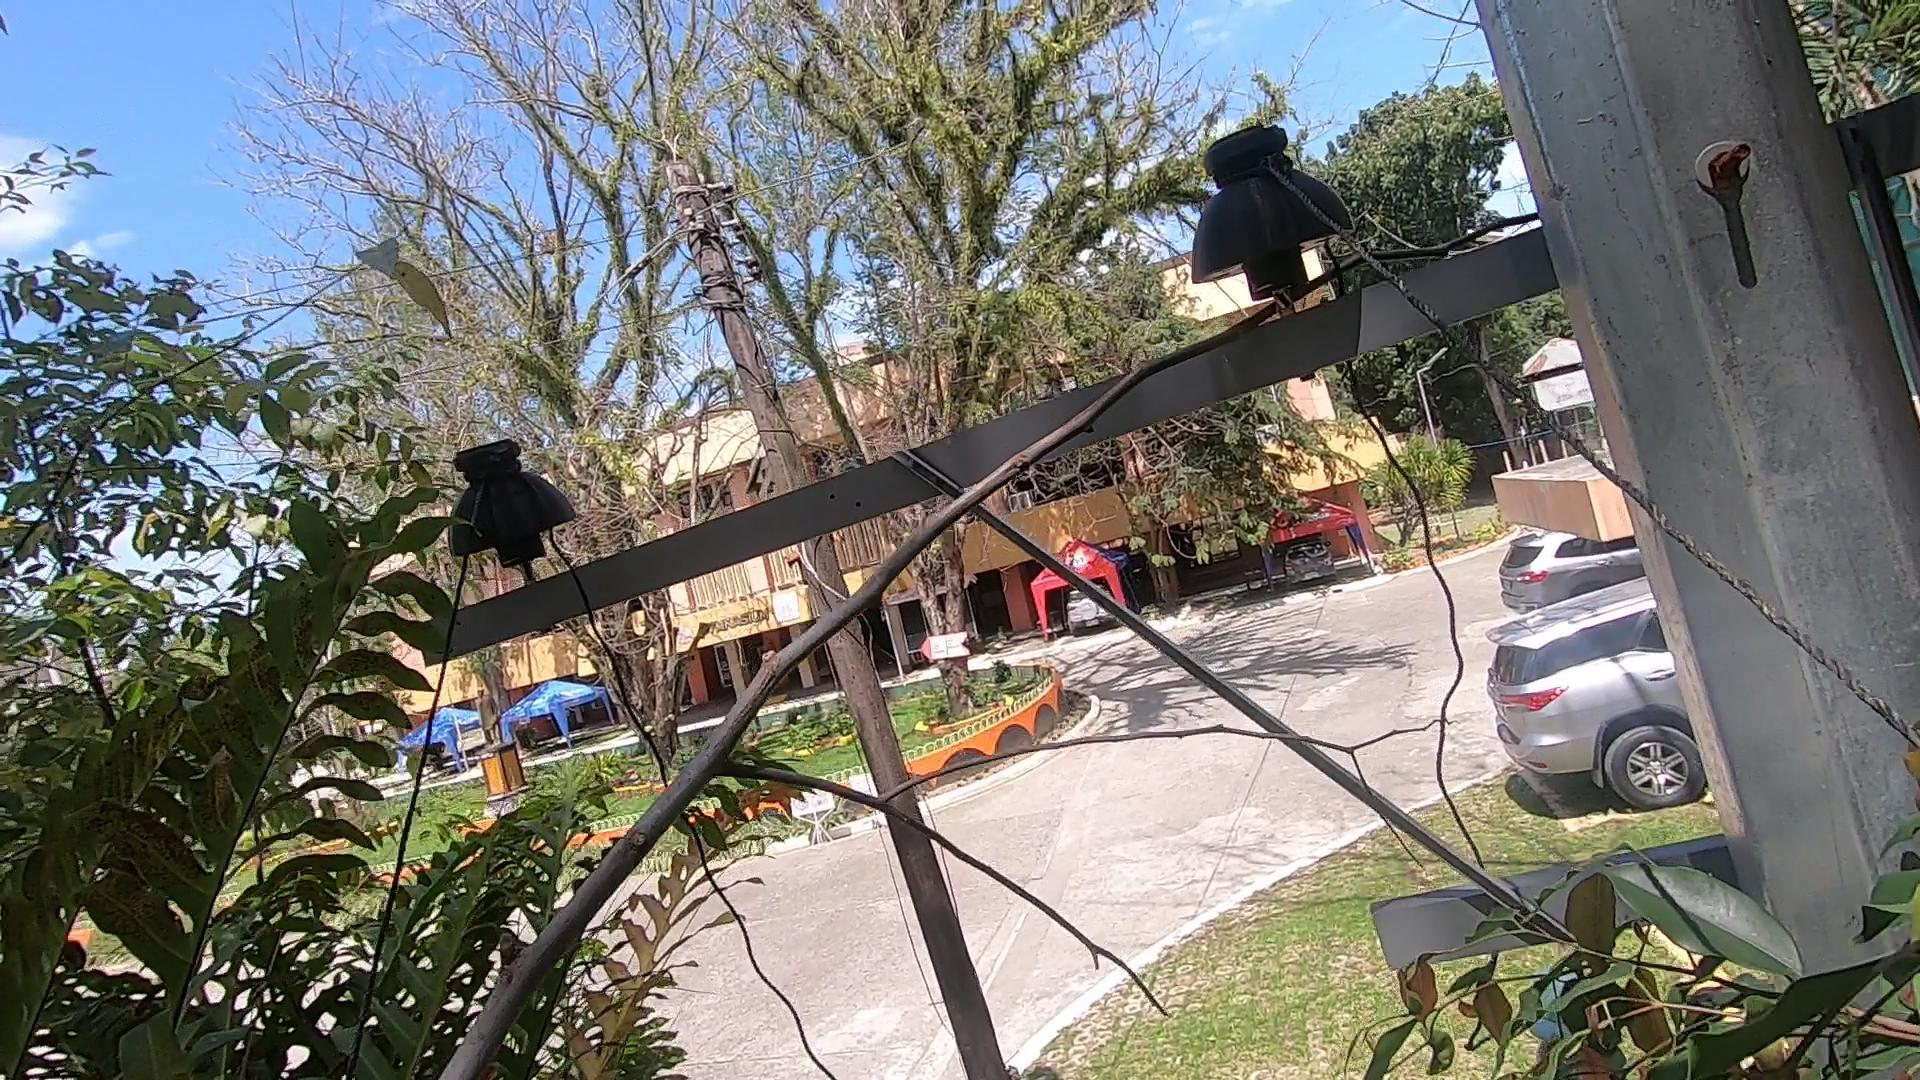branch with leaves: (1338, 841, 1920, 1073)
leaf: (338, 266, 1677, 1080)
